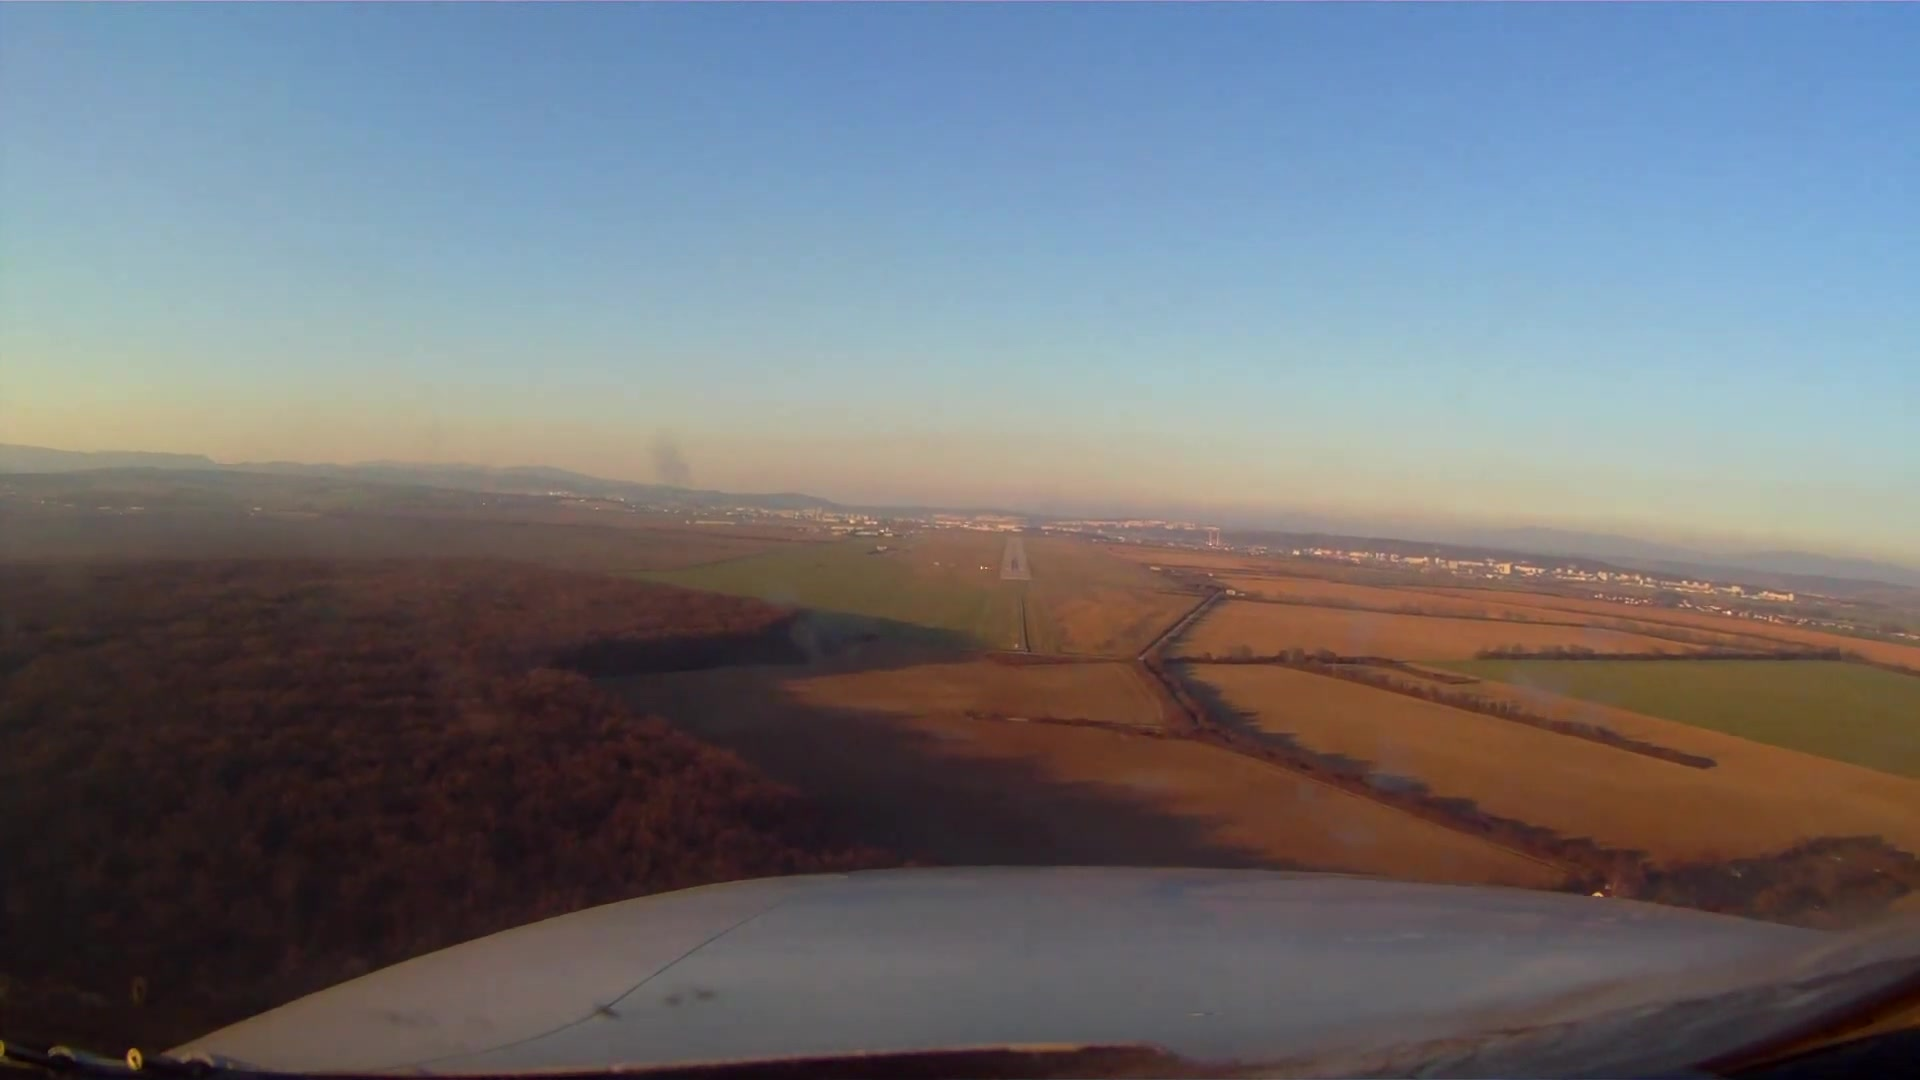runway: (998, 533, 1034, 583)
